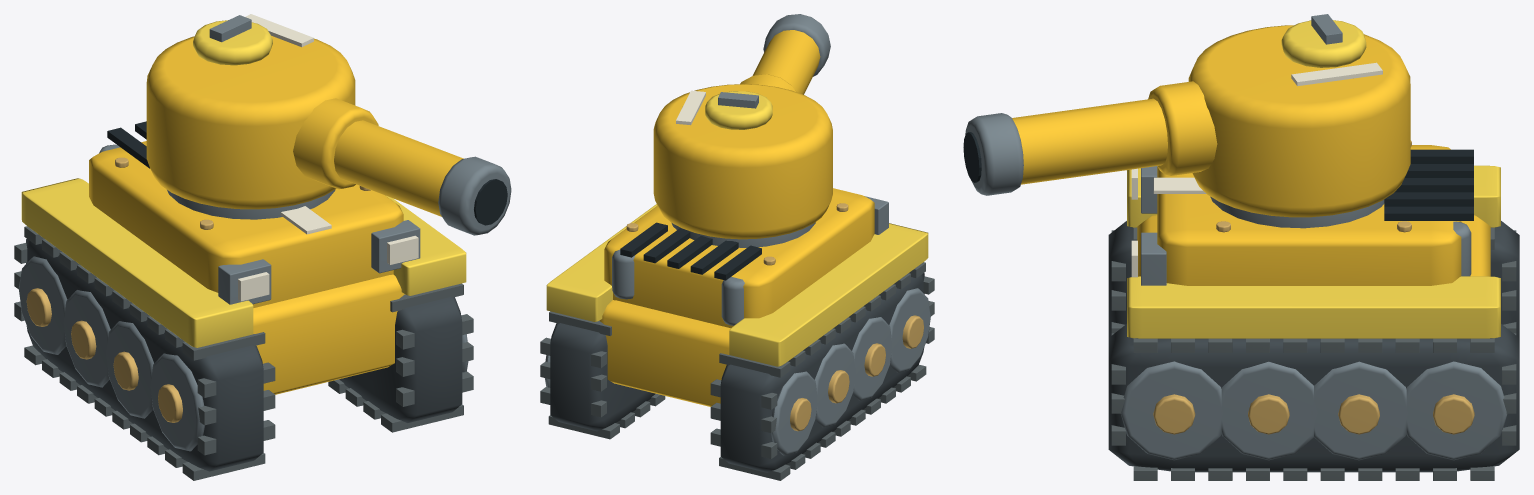
The model's file is tank_04_saffron_sprinter.glb.
3 renders of one model, left to right at view 1: azimuth 30°, elevation 25°; view 2: azimuth 150°, elevation 25°; view 3: azimuth 270°, elevation 25°, orthographic. The views are drawn at different scales.
Visible parts, largest first — view 1: Round turret.001, Upper deck.003, Track guard.006, Lower hull.003, Track belt.006, Track belt.007, Cannon tube.003, Barrel collar.003, Track guard.007, Muzzle rim.003, Road wheel.024, Road wheel.027 (+27 smaller); view 2: Round turret.001, Upper deck.003, Track guard.006, Lower hull.003, Track belt.006, Track belt.007, Track guard.007, Cannon tube.003, Road wheel.027, Road wheel.024, Road wheel.026, Road wheel.025 (+26 smaller); view 3: Round turret.001, Upper deck.003, Track guard.007, Track belt.007, Cannon tube.003, Road wheel.031, Road wheel.028, Road wheel.029, Road wheel.030, Barrel collar.003, Muzzle rim.003, Track belt.006 (+20 smaller).
Part boxes in pixels (x1,y1,x2,y2): Round turret.001: [146, 35, 355, 209]; Upper deck.003: [89, 141, 403, 307]; Track guard.006: [21, 178, 253, 347]; Lower hull.003: [253, 274, 404, 394]; Track belt.006: [26, 239, 263, 471]; Track belt.007: [339, 297, 462, 422]; Cannon tube.003: [334, 120, 463, 216]; Barrel collar.003: [293, 98, 378, 189]; Track guard.007: [386, 196, 466, 295]; Muzzle rim.003: [438, 156, 511, 235]; Road wheel.024: [150, 353, 204, 451]; Road wheel.027: [18, 256, 67, 354]; Round turret.001: [653, 84, 832, 239]; Upper deck.003: [604, 188, 874, 328]; Track guard.006: [729, 223, 928, 366]; Lower hull.003: [599, 300, 730, 406]; Track belt.006: [720, 273, 924, 472]; Track belt.007: [550, 323, 655, 431]; Track guard.007: [546, 204, 657, 321]; Cannon tube.003: [752, 30, 820, 94]; Road wheel.027: [771, 371, 817, 455]; Road wheel.024: [889, 288, 930, 372]; Road wheel.026: [815, 343, 855, 427]; Road wheel.025: [852, 317, 891, 400]; Round turret.001: [1188, 25, 1410, 217]; Upper deck.003: [1157, 145, 1461, 285]; Track guard.007: [1127, 276, 1500, 338]; Track belt.007: [1108, 324, 1519, 472]; Cannon tube.003: [1012, 98, 1167, 184]; Road wheel.031: [1405, 361, 1507, 460]; Road wheel.028: [1121, 361, 1222, 460]; Road wheel.029: [1220, 361, 1317, 460]; Road wheel.030: [1311, 361, 1407, 460]; Barrel collar.003: [1148, 81, 1217, 175]; Muzzle rim.003: [965, 113, 1023, 195]; Track belt.006: [1108, 221, 1519, 337].
Size of the model in its own units: 1.1 by 1.31 by 1.73.
